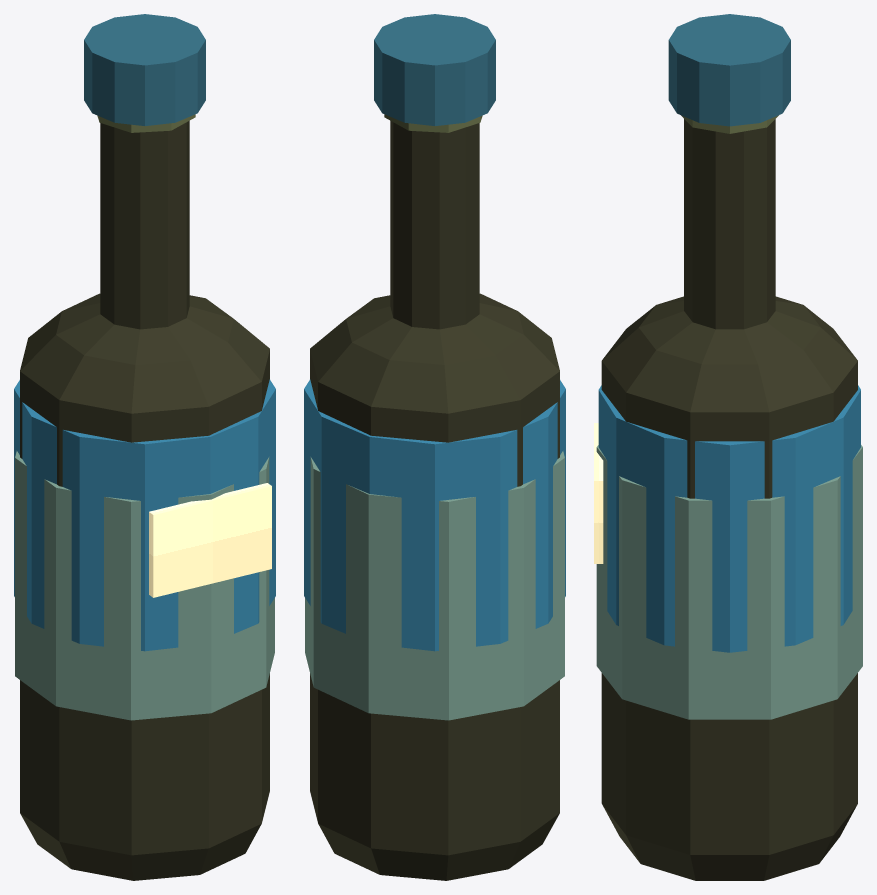
File: water_bottle.glb
The picture shows the model from 3 angles, left to right: view 1: azimuth 30°, elevation 25°; view 2: azimuth 150°, elevation 25°; view 3: azimuth 270°, elevation 25°; orthographic projection.
Parts seen in each view (by area): view 1: bottle, Paper label, Blue cap, Water label panel; view 2: bottle, Paper label, Blue cap; view 3: bottle, Paper label, Blue cap, Water label panel.
Boxes of the visible parts, x1,y1,x2,y2 form: bottle: (15, 114, 274, 880); Paper label: (14, 379, 275, 651); Blue cap: (84, 14, 205, 125); Water label panel: (149, 483, 271, 597); bottle: (305, 114, 564, 880); Paper label: (304, 379, 565, 651); Blue cap: (374, 14, 495, 125); bottle: (596, 115, 862, 880); Paper label: (598, 385, 860, 652); Blue cap: (668, 14, 790, 126); Water label panel: (594, 423, 603, 563).
Size of the model in its own units: 0.086 by 0.288 by 0.0881.
Materials: 4 (1 with a texture image).
